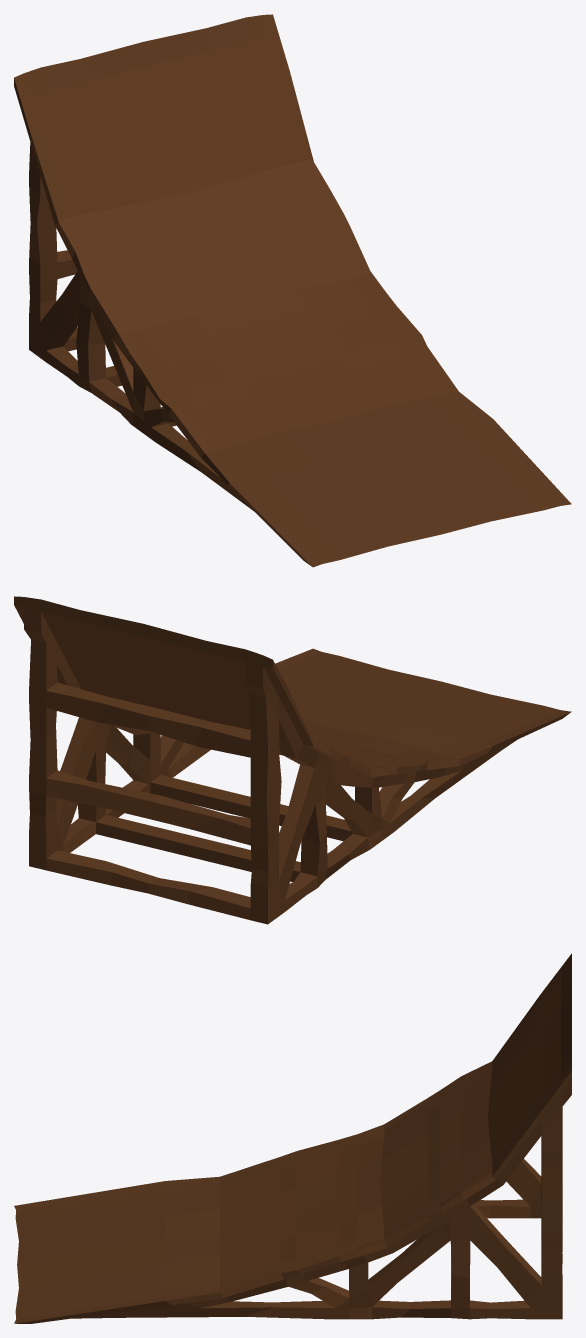
The model's file is ramp_10w_20l_10h.fbx.
3 views of the same model, one above another, from view 1: azimuth 30°, elevation 25°; view 2: azimuth 150°, elevation 25°; view 3: azimuth 270°, elevation 25° (orthographic). The views are drawn at different scales.
Parts seen in each view (by area): view 1: Plane.001; view 2: Plane.001; view 3: Plane.001.
Part boxes in pixels (x1,y1,x2,y2): Plane.001: (14, 14, 571, 567); Plane.001: (14, 596, 571, 924); Plane.001: (14, 953, 571, 1323).
Size of the model in its own units: 10.17 by 10.16 by 20.
